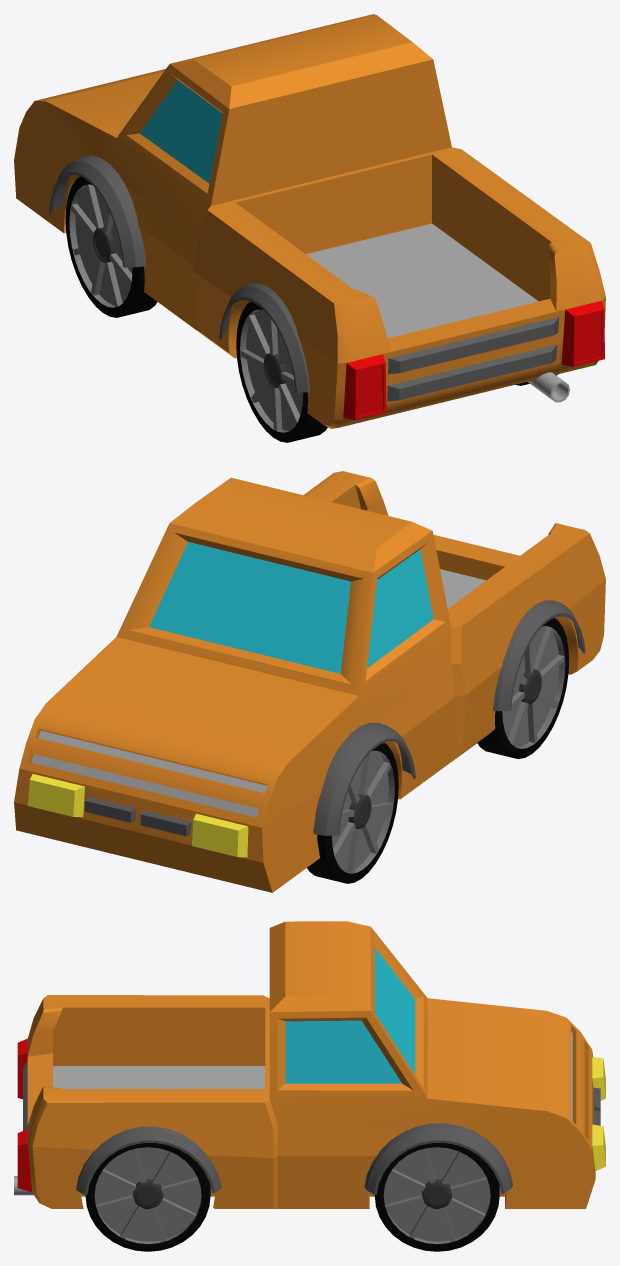
The model's file is car_1.fbx.
3 views of the same model, one above another, from view 1: azimuth 30°, elevation 25°; view 2: azimuth 150°, elevation 25°; view 3: azimuth 270°, elevation 25° (orthographic). The views are drawn at different scales.
Parts seen in each view (by area): view 1: Car 1, wheel 3, wheel 4, wheel protector; view 2: Car 1, wheel 3, wheel protector, wheel 4; view 3: Car 1, wheel 2, wheel 1, wheel protector.
Boxes of the visible parts, box(x1,y1,x2,y2) form: Car 1: box(14, 14, 605, 428); wheel 3: box(65, 176, 157, 317); wheel 4: box(236, 301, 327, 442); wheel protector: box(49, 155, 310, 392); Car 1: box(14, 471, 605, 892); wheel 3: box(307, 743, 398, 883); wheel protector: box(313, 600, 585, 835); wheel 4: box(477, 618, 569, 758); Car 1: box(14, 921, 605, 1208); wheel 2: box(85, 1143, 210, 1251); wheel 1: box(374, 1143, 499, 1251); wheel protector: box(76, 1123, 512, 1194).
Size of the model in its own units: 2.4 by 4.98 by 2.22.
